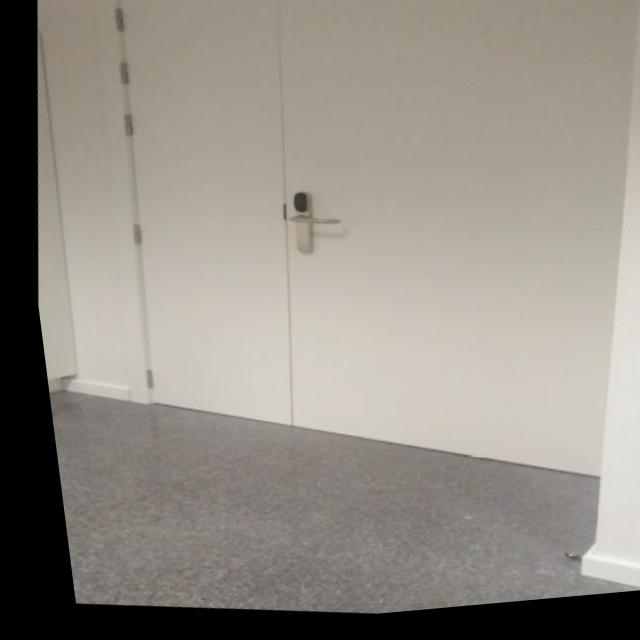door_handle: (275, 214, 338, 235)
